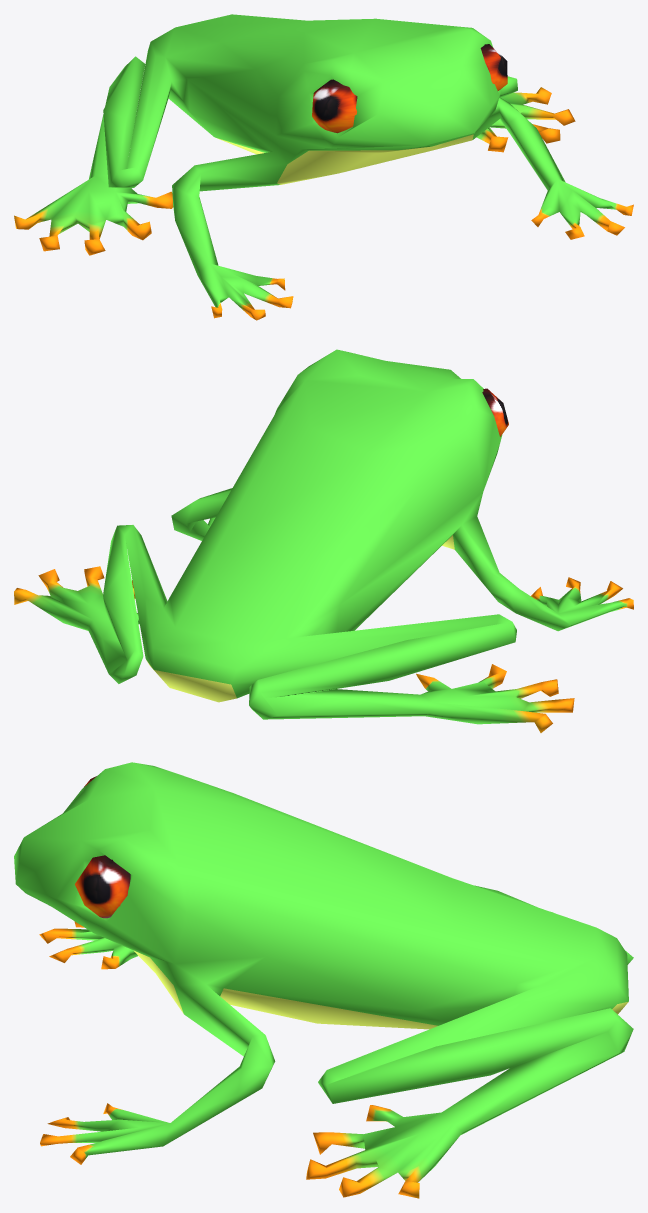
The model's file is Frog02.glb.
The picture shows the model from 3 angles, top to bottom: view 1: azimuth 30°, elevation 25°; view 2: azimuth 150°, elevation 25°; view 3: azimuth 270°, elevation 25°; orthographic projection. The views are drawn at different scales.
Parts seen in each view (by area): view 1: Frog02; view 2: Frog02; view 3: Frog02.
Part boxes in pixels (<box>): Frog02: <box>14,14,633,320</box>; Frog02: <box>14,349,633,732</box>; Frog02: <box>14,762,633,1198</box>.
Size of what is drawn, in the model's own units: 0.3727 by 0.1413 by 0.3182.
Materials: 1 (1 with a texture image).
